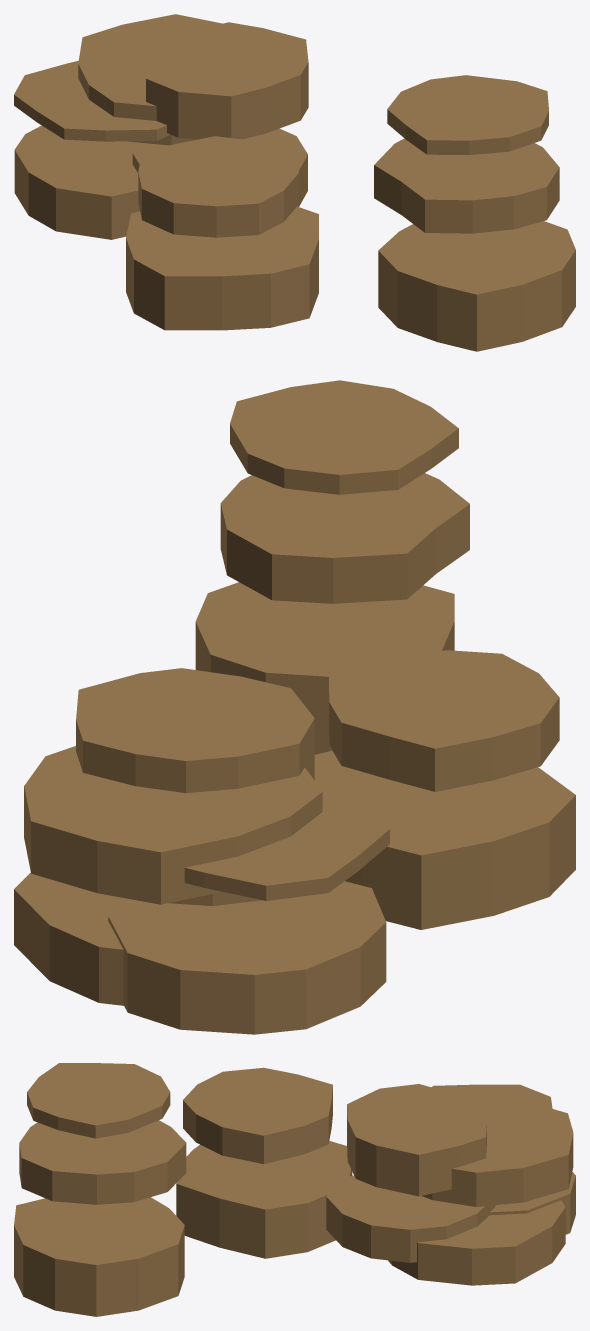
Rendered from MesasE_RockBand.fbx.
3 views of the same model, one above another, from view 1: azimuth 30°, elevation 25°; view 2: azimuth 150°, elevation 25°; view 3: azimuth 270°, elevation 25° (orthographic). The views are drawn at different scales.
Parts seen in each view (by area): view 1: MesaE0_1.001; view 2: MesaE0_1.001; view 3: MesaE0_1.001.
Part boxes in pixels (box(x1,y1,x2,y2)): MesaE0_1.001: box(14, 14, 575, 351); MesaE0_1.001: box(14, 380, 575, 1034); MesaE0_1.001: box(14, 1063, 575, 1316).
Size of the model in its own units: 11147 by 6650 by 17538.
